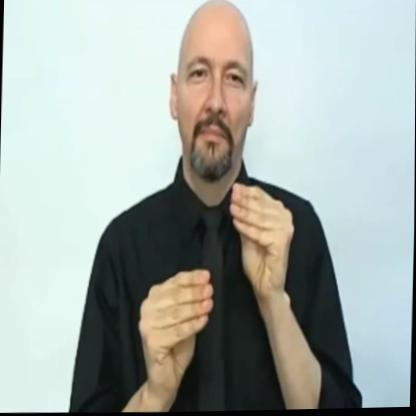Fix: (126, 176, 300, 393)
